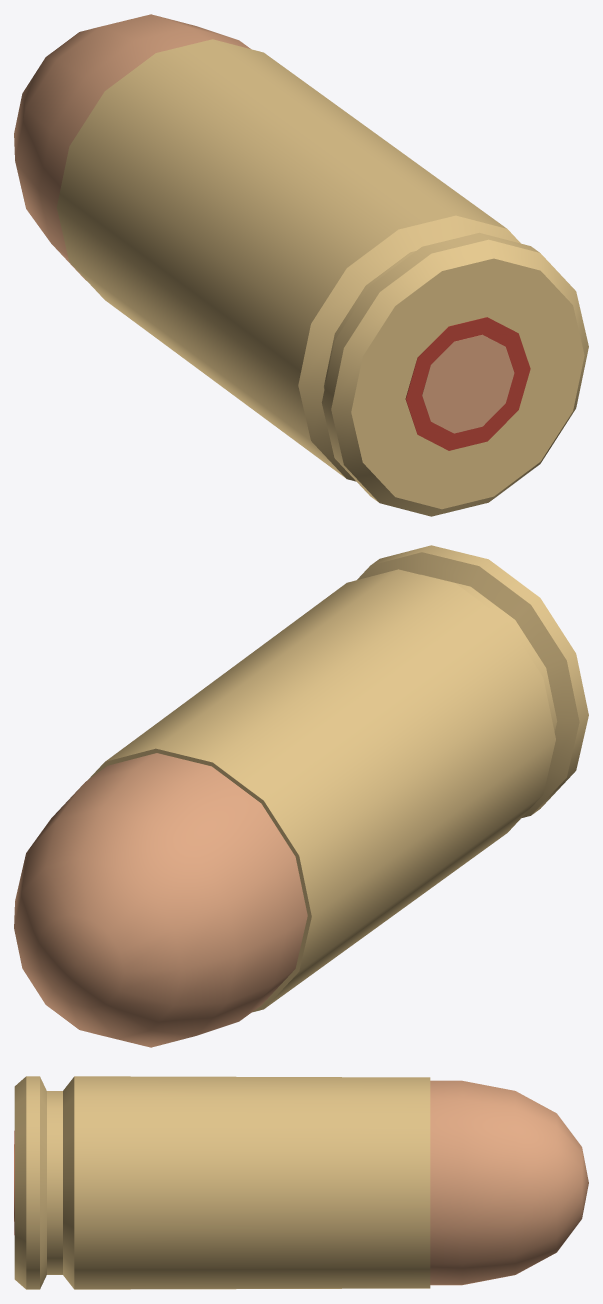
File: round_9x18.glb
3 views of the same model, one above another, from view 1: azimuth 30°, elevation 25°; view 2: azimuth 150°, elevation 25°; view 3: azimuth 270°, elevation 25° (orthographic). The views are drawn at different scales.
Parts seen in each view (by area): view 1: body; view 2: body; view 3: body.
Boxes of the visible parts, x1,y1,x2,y2 form: body: [14, 14, 588, 516]; body: [14, 545, 588, 1047]; body: [14, 1076, 588, 1289].
Size of the model in its own units: 0.0095 by 0.00926 by 0.025.
